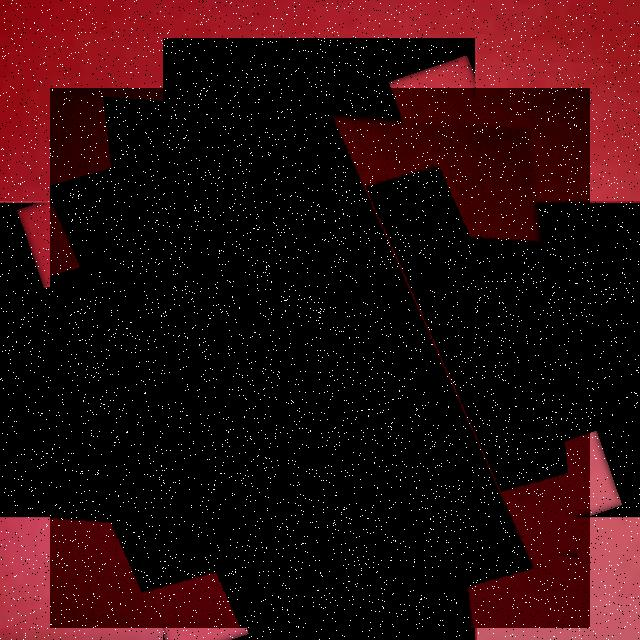lima puluh ribu rupiah: (50, 88, 590, 628)
